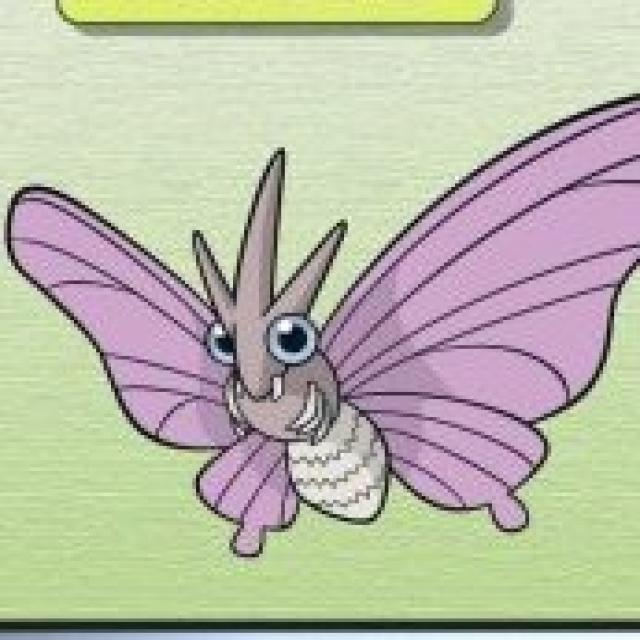Venomoth: (86, 160, 549, 556)
